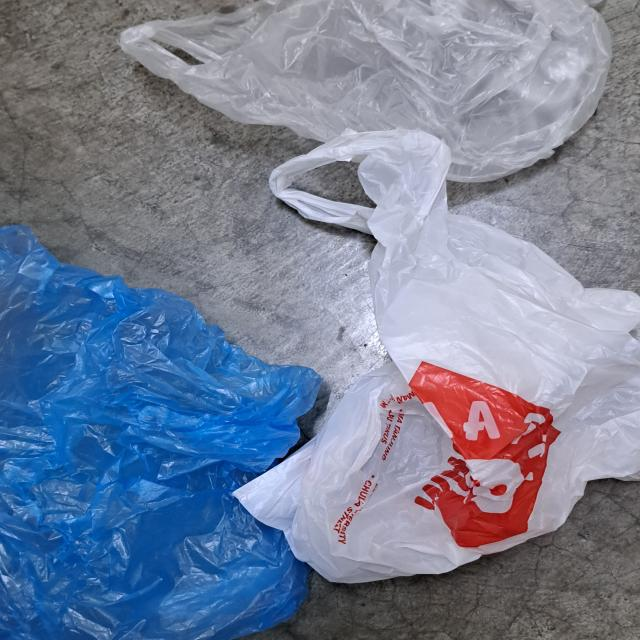plastic bag: (257, 125, 640, 578), (4, 211, 306, 640), (113, 0, 621, 185)
